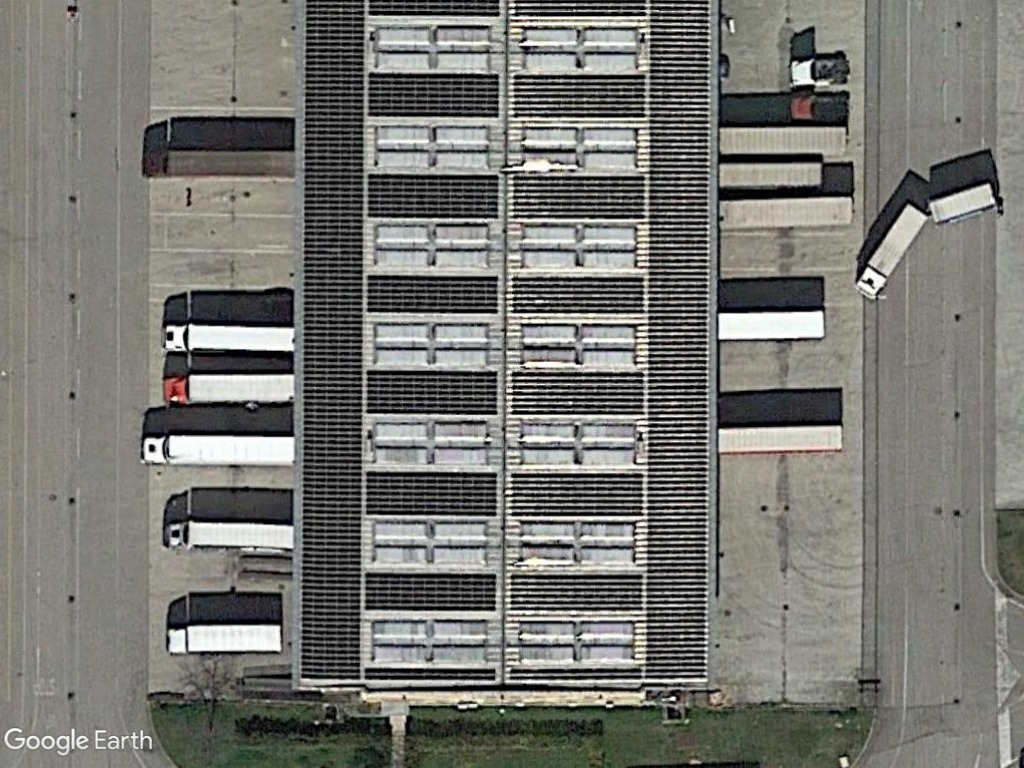longvehicle: (852, 194, 935, 306), (136, 429, 300, 470), (716, 191, 857, 235), (137, 146, 294, 185), (157, 515, 295, 557), (159, 370, 297, 410), (158, 320, 296, 359), (717, 422, 846, 461), (717, 124, 852, 160), (161, 621, 285, 659), (715, 307, 831, 345), (920, 176, 1003, 228), (718, 161, 829, 191)
